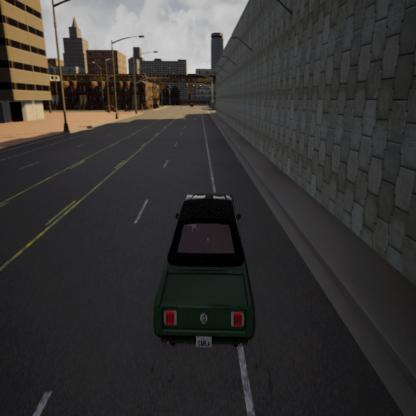Cars: (125, 172, 263, 377)
